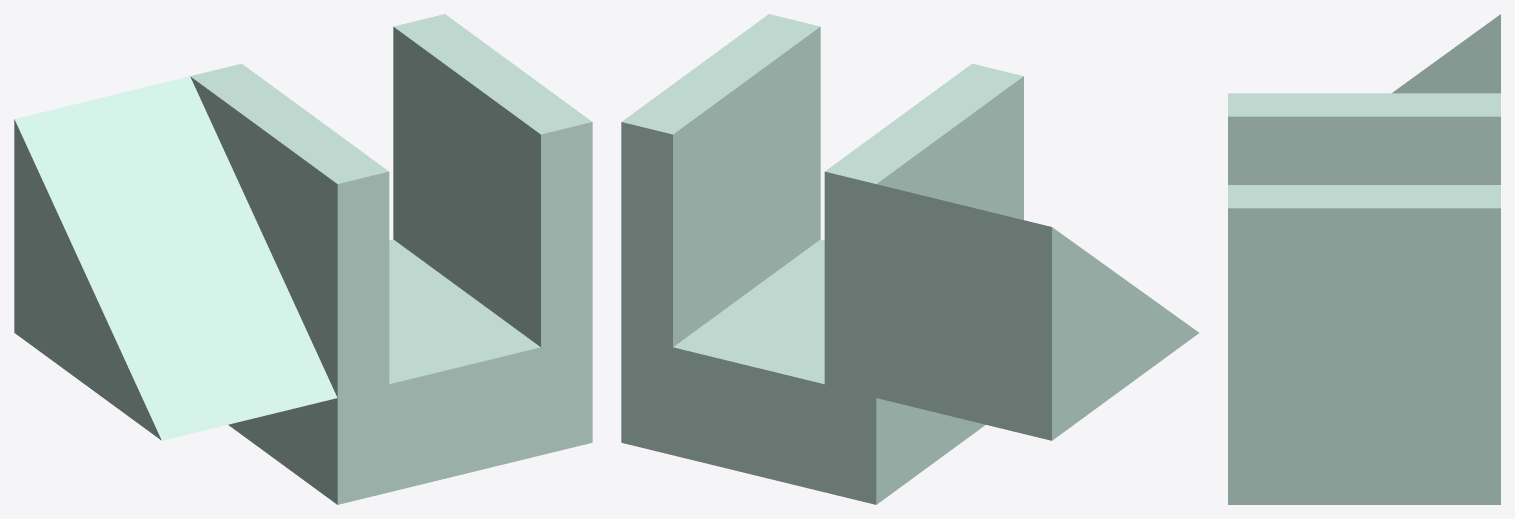
The picture shows the model from 3 angles, left to right: view 1: azimuth 30°, elevation 25°; view 2: azimuth 150°, elevation 25°; view 3: azimuth 270°, elevation 25°; orthographic projection. The views are drawn at different scales.
Parts seen in each view (by area): view 1: Renderer Node; view 2: Renderer Node; view 3: Renderer Node.
Part boxes in pixels (x1=…): Renderer Node: x1=14, y1=14, x2=592, y2=504; Renderer Node: x1=621, y1=14, x2=1198, y2=504; Renderer Node: x1=1228, y1=14, x2=1500, y2=504.
Size of the model in its own units: 1.05 by 0.75 by 0.625.
